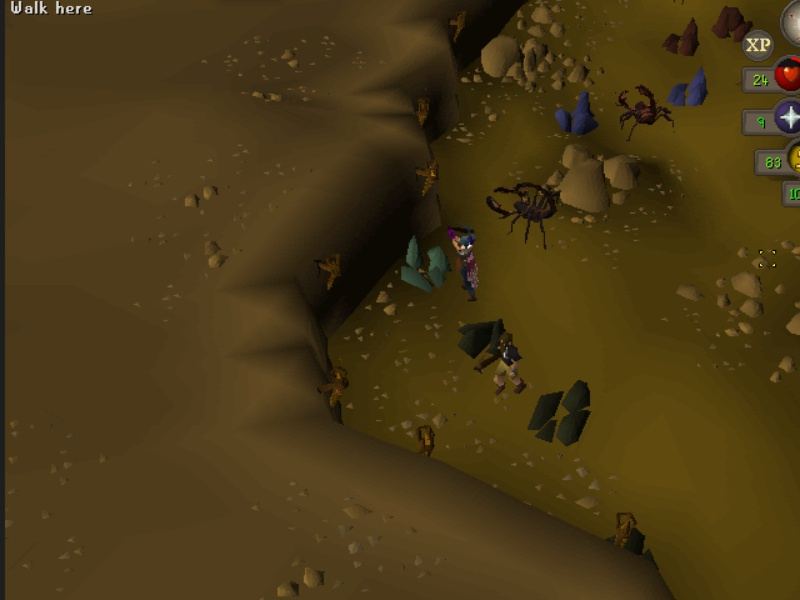adamant: (397, 230, 456, 295)
coal: (524, 376, 600, 449), (454, 313, 528, 367)
iron: (706, 1, 757, 48), (660, 13, 706, 61)
mithril: (552, 87, 602, 138), (665, 64, 715, 115)
